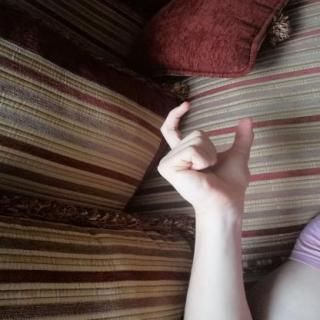NOON: (143, 94, 262, 218)
